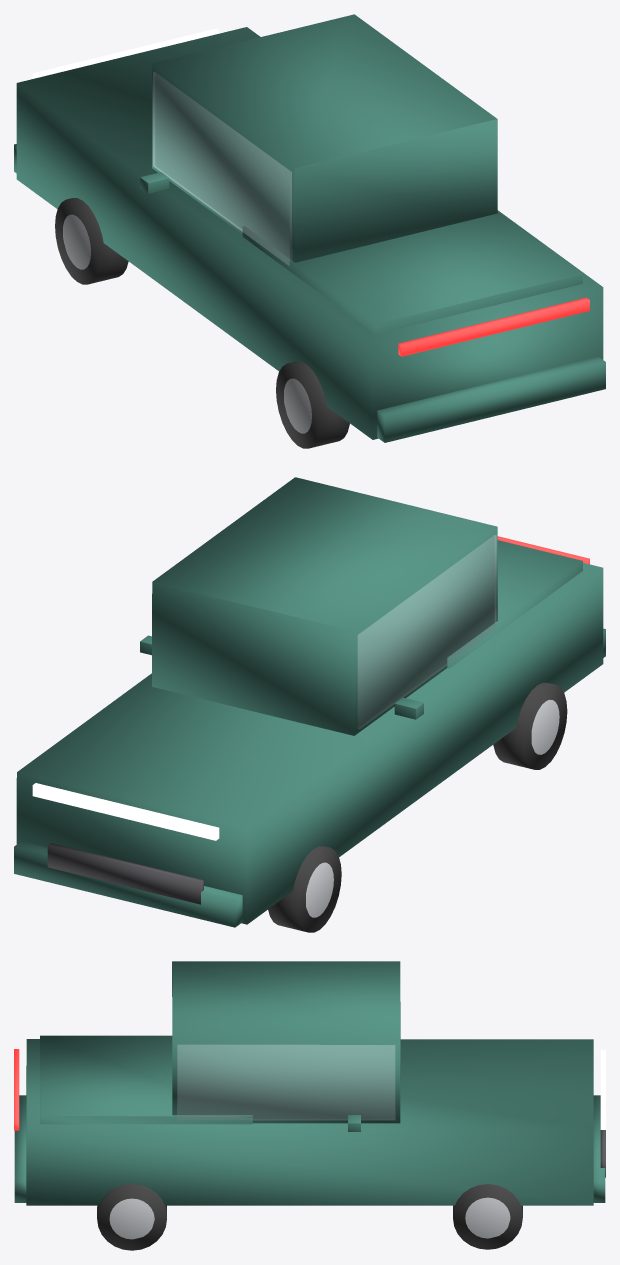
File: vehicle.glb
The picture shows the model from 3 angles, top to bottom: view 1: azimuth 30°, elevation 25°; view 2: azimuth 150°, elevation 25°; view 3: azimuth 270°, elevation 25°; orthographic projection. The views are drawn at different scales.
Parts seen in each view (by area): view 1: BODY_Roof, BODY_Main, BODY_Bed, GLASS_Greenhouse, BODY_Bumpers_Rear, WHEEL_RR_Tire, WHEEL_FR_Tire, LIGHT_Taillights, LIGHT_Headlights, WHEEL_RR_Alloy, WHEEL_FR_Alloy; view 2: BODY_Main, BODY_Roof, GLASS_Greenhouse, BODY_Bed, BODY_Bumpers_Front, BODY_Grille, WHEEL_RR_Tire, WHEEL_FR_Tire, LIGHT_Headlights, WHEEL_RR_Alloy, WHEEL_FR_Alloy; view 3: BODY_Main, BODY_Roof, GLASS_Greenhouse, BODY_Bed, WHEEL_RL_Tire, WHEEL_FL_Tire, WHEEL_FL_Alloy, WHEEL_RL_Alloy, BODY_Bumpers_Rear, BODY_Bumpers_Front, LIGHT_Taillights, LIGHT_Headlights.
Part boxes in pixels (x1=…): BODY_Roof: x1=152, y1=14, x2=497, y2=262; BODY_Main: x1=16, y1=27, x2=603, y2=439; BODY_Bed: x1=242, y1=211, x2=582, y2=334; GLASS_Greenhouse: x1=153, y1=72, x2=291, y2=265; BODY_Bumpers_Rear: x1=377, y1=356, x2=605, y2=442; WHEEL_RR_Tire: x1=276, y1=361, x2=349, y2=448; WHEEL_FR_Tire: x1=55, y1=198, x2=128, y2=284; LIGHT_Taillights: x1=398, y1=297, x2=589, y2=356; LIGHT_Headlights: x1=32, y1=28, x2=219, y2=78; WHEEL_RR_Alloy: x1=284, y1=378, x2=311, y2=433; WHEEL_FR_Alloy: x1=63, y1=214, x2=90, y2=269; BODY_Main: x1=16, y1=563, x2=603, y2=924; BODY_Roof: x1=152, y1=477, x2=497, y2=735; GLASS_Greenhouse: x1=358, y1=535, x2=496, y2=729; BODY_Bed: x1=447, y1=540, x2=582, y2=668; BODY_Bumpers_Front: x1=14, y1=841, x2=242, y2=927; BODY_Grille: x1=47, y1=843, x2=203, y2=904; WHEEL_RR_Tire: x1=493, y1=682, x2=567, y2=769; WHEEL_FR_Tire: x1=268, y1=846, x2=341, y2=932; LIGHT_Headlights: x1=32, y1=783, x2=219, y2=840; WHEEL_RR_Alloy: x1=531, y1=699, x2=559, y2=754; WHEEL_FR_Alloy: x1=306, y1=862, x2=333, y2=917; BODY_Main: x1=26, y1=1039, x2=593, y2=1205; BODY_Roof: x1=172, y1=961, x2=400, y2=1123; GLASS_Greenhouse: x1=177, y1=1045, x2=395, y2=1120; BODY_Bed: x1=40, y1=1035, x2=252, y2=1124; WHEEL_RL_Tire: x1=97, y1=1184, x2=166, y2=1250; WHEEL_FL_Tire: x1=453, y1=1184, x2=522, y2=1249; WHEEL_FL_Alloy: x1=465, y1=1197, x2=510, y2=1238; WHEEL_RL_Alloy: x1=109, y1=1198, x2=154, y2=1239; BODY_Bumpers_Rear: x1=14, y1=1095, x2=26, y2=1202; BODY_Bumpers_Front: x1=593, y1=1095, x2=605, y2=1202; LIGHT_Taillights: x1=14, y1=1049, x2=19, y2=1130; LIGHT_Headlights: x1=600, y1=1050, x2=605, y2=1129.
Bounding box in the file's own units: 2.32 × 2.04 × 5.41.
